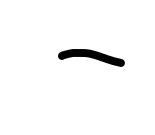minus: (58, 49, 124, 68)
